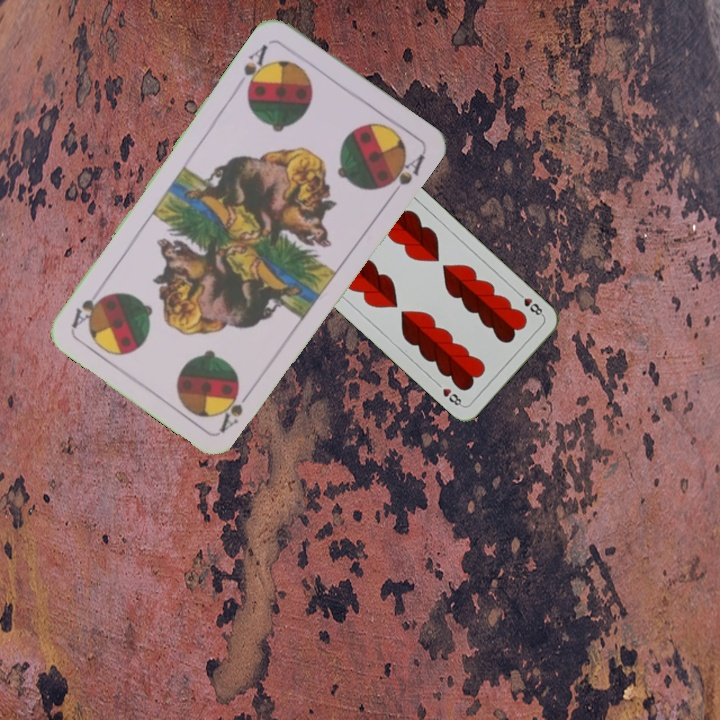H8: (513, 288, 546, 319)
SA: (215, 383, 256, 435), (239, 40, 273, 96)
